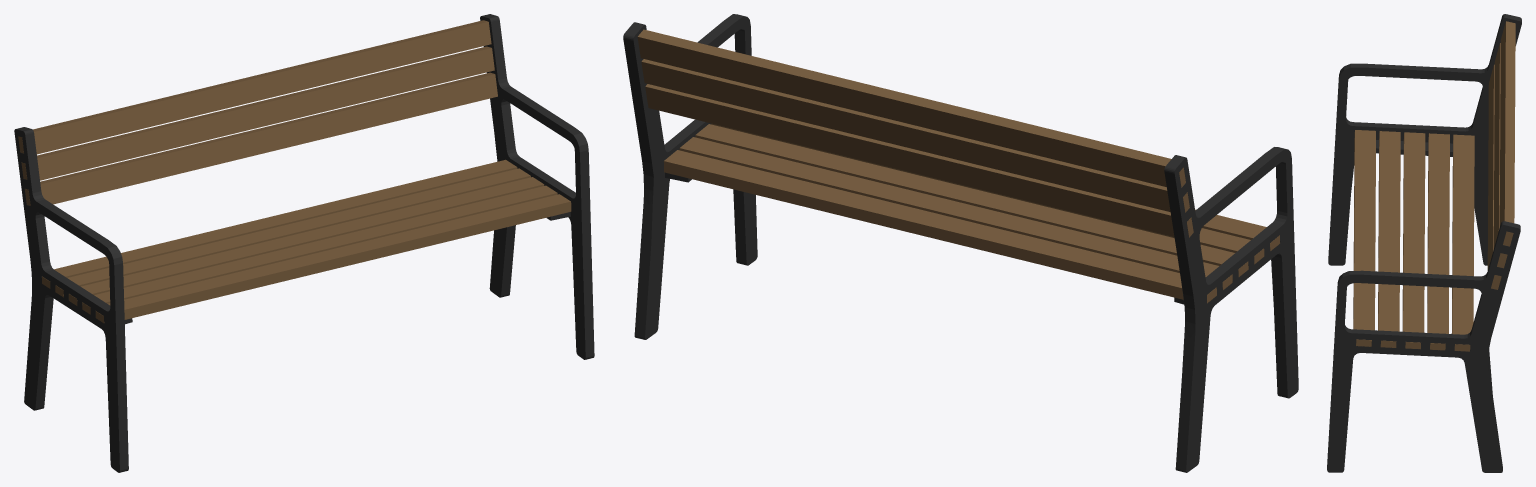
The model's file is bench.fbx.
The picture shows the model from 3 angles, left to right: view 1: azimuth 30°, elevation 25°; view 2: azimuth 150°, elevation 25°; view 3: azimuth 270°, elevation 25°; orthographic projection. The views are drawn at different scales.
Visible parts, largest first — view 1: Group001; view 2: Group001; view 3: Group001.
Boxes of the visible parts, x1=… form: Group001: x1=14, y1=14, x2=594, y2=472; Group001: x1=623, y1=14, x2=1298, y2=472; Group001: x1=1327, y1=14, x2=1521, y2=472.
Bounding box in the file's own units: 56.43 × 30.87 × 21.99.
